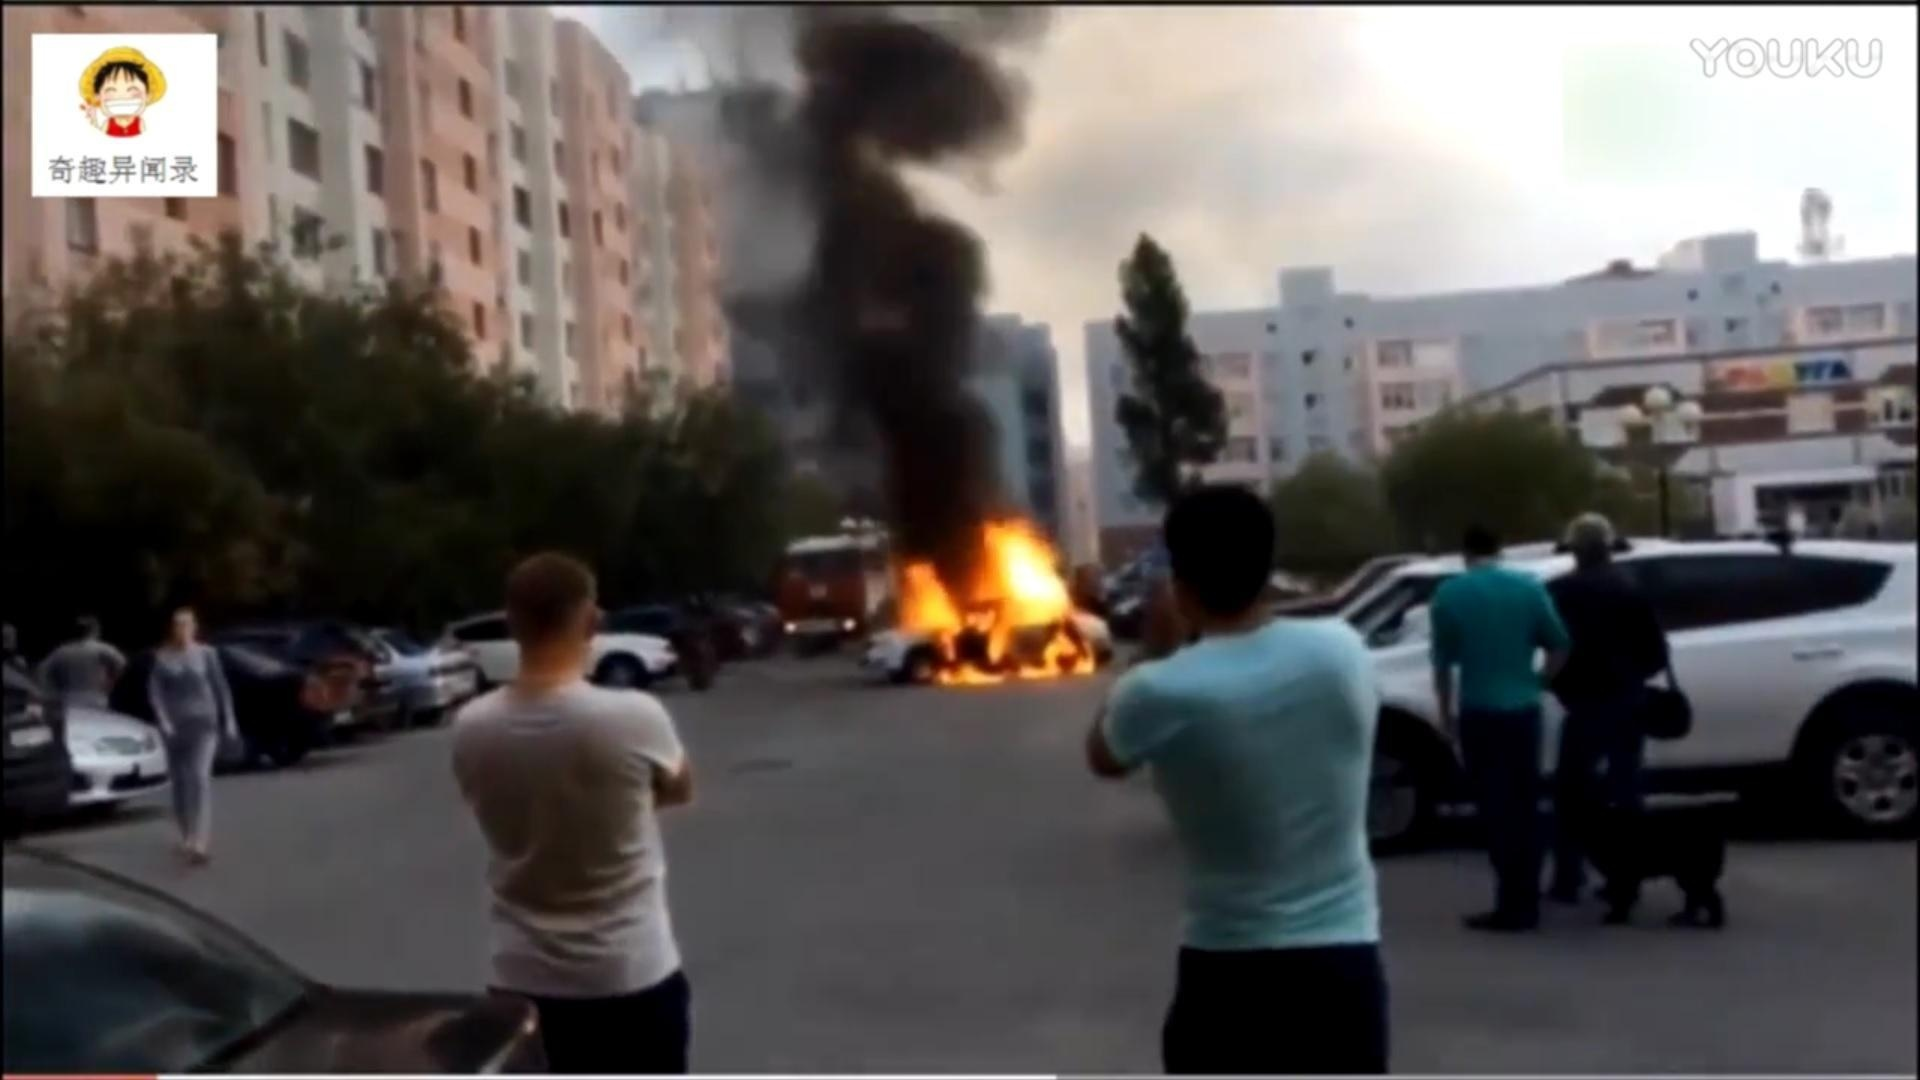fire: (898, 516, 1098, 686)
